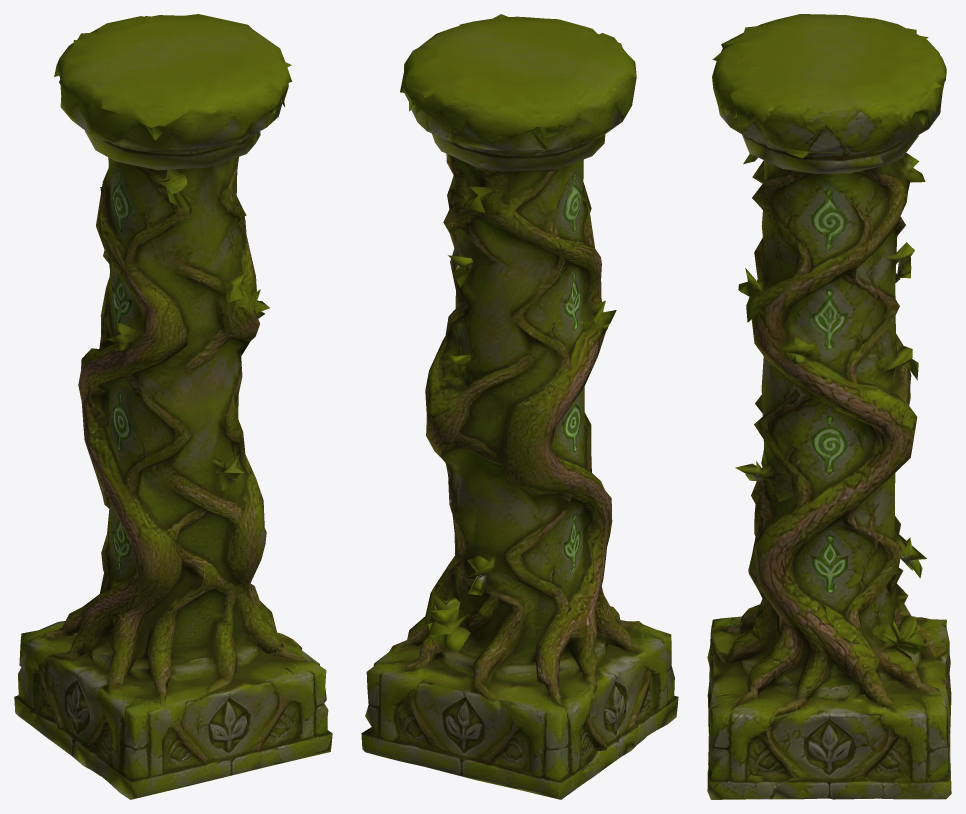
The model's file is pillar.glb.
3 renders of one model, left to right at view 1: azimuth 30°, elevation 25°; view 2: azimuth 150°, elevation 25°; view 3: azimuth 270°, elevation 25°, orthographic. The views are drawn at different scales.
Parts seen in each view (by area): view 1: tripo_node_0751dcc6-9071-44c7-9596-cd3316d2f314; view 2: tripo_node_0751dcc6-9071-44c7-9596-cd3316d2f314; view 3: tripo_node_0751dcc6-9071-44c7-9596-cd3316d2f314.
Boxes of the visible parts, left/top/right/bottom form: tripo_node_0751dcc6-9071-44c7-9596-cd3316d2f314: left=14, top=14, right=332, bottom=799; tripo_node_0751dcc6-9071-44c7-9596-cd3316d2f314: left=361, top=14, right=678, bottom=799; tripo_node_0751dcc6-9071-44c7-9596-cd3316d2f314: left=707, top=14, right=951, bottom=799.
Size of the model in its own units: 0.3224 by 1 by 0.3167.
Materials: 1 (1 with a texture image).
